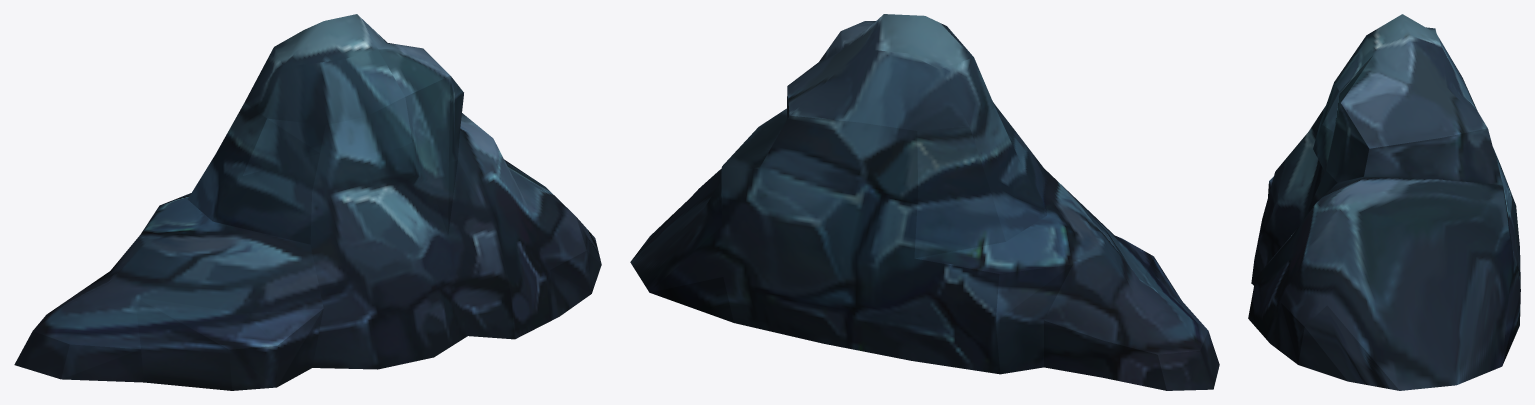
The model's file is H_Maze_shitou05.FBX.
The picture shows the model from 3 angles, left to right: view 1: azimuth 30°, elevation 25°; view 2: azimuth 150°, elevation 25°; view 3: azimuth 270°, elevation 25°; orthographic projection. The views are drawn at different scales.
Parts seen in each view (by area): view 1: shitou05; view 2: shitou05; view 3: shitou05.
Boxes of the visible parts, x1,y1,x2,y2 form: shitou05: (14, 14, 601, 390); shitou05: (630, 14, 1219, 390); shitou05: (1248, 14, 1520, 390).
Size of the model in its own units: 263 by 126 by 121.
